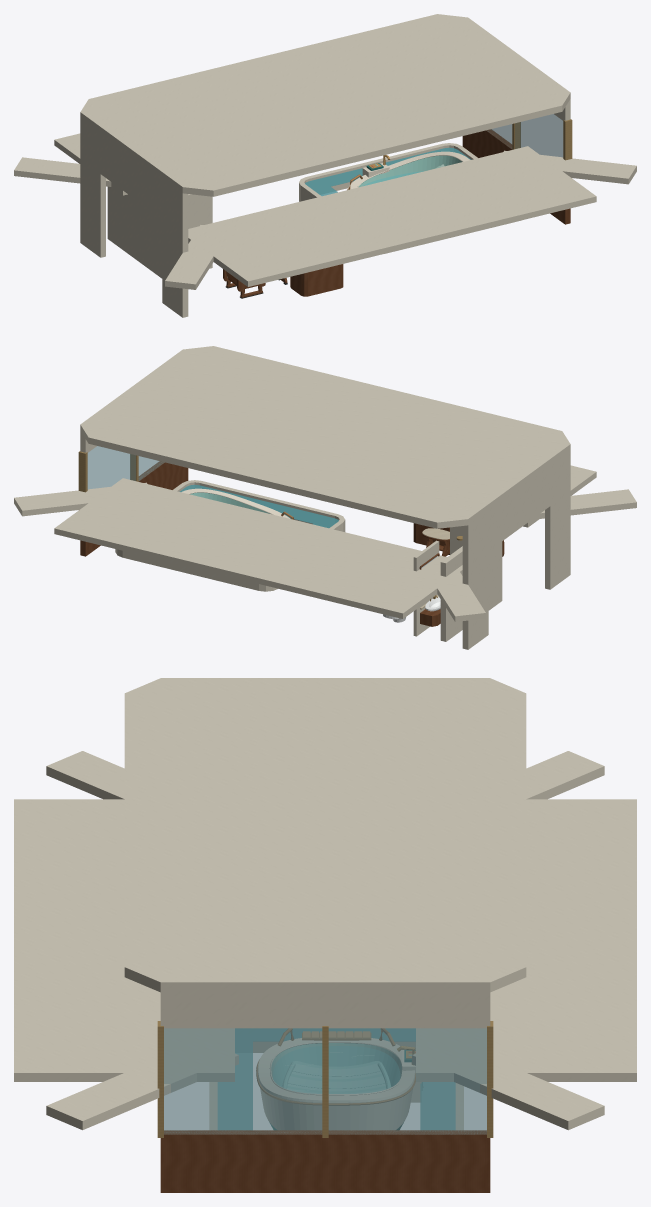
The model's file is D04_PORT_FORWARD_HOME_892_r001.glb.
3 renders of one model, top to bottom at view 1: azimuth 30°, elevation 25°; view 2: azimuth 150°, elevation 25°; view 3: azimuth 270°, elevation 25°, orthographic. The views are drawn at different scales.
Visible parts, largest first — view 1: D04H892_Roof, D04H892_Shell_4, D04H892_BathDogleg, D04H892_EntryWall_0, D04H892_EntryWall_1, D04H892_EntryHeader, D04H892_AquaticBasinRim, D04H892_GardenGlass, D04H892_Shell_5, D04H892_Shell_3, D04H892_ReservedAquaticRest__Hollow continuous basin shell w, D04H892_Shell_7 (+5 smaller); view 2: D04H892_Roof, D04H892_Shell_0, D04H892_AquaticBasinRim, D04H892_EntryWall_1, D04H892_EntryWall_0, D04H892_EntryHeader, D04H892_GardenGlass, D04H892_BathDogleg, D04H892_Shell_7, D04H892_Shell_1, D04H892_Shell_5, D04H892_GardenDado (+4 smaller); view 3: D04H892_Roof, D04H892_Shell_0, D04H892_Shell_4, D04H892_GardenGlass, D04H892_GardenDado, D04H892_GardenHead, D04H892_ReservedAquaticRest__Hollow continuous basin shell w, D04H892_Shell_3, D04H892_Shell_1, D04H892_Water_0, D04H892_Shell_5, D04H892_Shell_7 (+5 smaller).
Boxes of the visible parts, bbox=[...] form: D04H892_Roof: bbox=[80, 14, 570, 196]; D04H892_Shell_4: bbox=[188, 146, 596, 286]; D04H892_BathDogleg: bbox=[107, 186, 162, 278]; D04H892_EntryWall_0: bbox=[80, 118, 105, 257]; D04H892_EntryWall_1: bbox=[162, 178, 188, 317]; D04H892_EntryHeader: bbox=[100, 133, 162, 218]; D04H892_AquaticBasinRim: bbox=[299, 143, 520, 253]; D04H892_GardenGlass: bbox=[486, 114, 563, 157]; D04H892_Shell_5: bbox=[165, 225, 224, 289]; D04H892_Shell_3: bbox=[503, 150, 636, 184]; D04H892_ReservedAquaticRest__Hollow continuous basin shell w: bbox=[348, 151, 469, 189]; D04H892_Shell_7: bbox=[14, 157, 111, 186]; D04H892_Roof: bbox=[80, 346, 570, 528]; D04H892_Shell_0: bbox=[54, 478, 462, 618]; D04H892_AquaticBasinRim: bbox=[115, 480, 345, 591]; D04H892_EntryWall_1: bbox=[545, 450, 570, 589]; D04H892_EntryWall_0: bbox=[462, 510, 488, 649]; D04H892_EntryHeader: bbox=[488, 465, 550, 550]; D04H892_GardenGlass: bbox=[87, 446, 164, 489]; D04H892_BathDogleg: bbox=[440, 541, 502, 641]; D04H892_Shell_7: bbox=[424, 557, 485, 621]; D04H892_Shell_1: bbox=[14, 482, 147, 516]; D04H892_Shell_5: bbox=[539, 489, 636, 518]; D04H892_GardenDado: bbox=[80, 461, 188, 556]; D04H892_Roof: bbox=[124, 678, 526, 992]; D04H892_Shell_0: bbox=[416, 799, 636, 1081]; D04H892_Shell_4: bbox=[14, 799, 234, 1081]; D04H892_GardenGlass: bbox=[164, 1028, 486, 1134]; D04H892_GardenDado: bbox=[160, 1130, 490, 1192]; D04H892_GardenHead: bbox=[160, 992, 490, 1028]; D04H892_ReservedAquaticRest__Hollow continuous basin shell w: bbox=[258, 1038, 415, 1129]; D04H892_Shell_3: bbox=[46, 1040, 238, 1130]; D04H892_Shell_1: bbox=[412, 1040, 604, 1130]; D04H892_Water_0: bbox=[218, 1028, 455, 1129]; D04H892_Shell_5: bbox=[46, 751, 124, 799]; D04H892_Shell_7: bbox=[526, 751, 604, 799].
Size of the model in its own units: 15.7 by 4.16 by 11.16.
39 materials, 20 textured.
